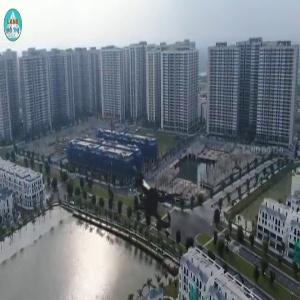drone: (96, 139, 216, 259)
